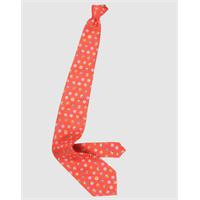tie: (52, 4, 126, 196)
